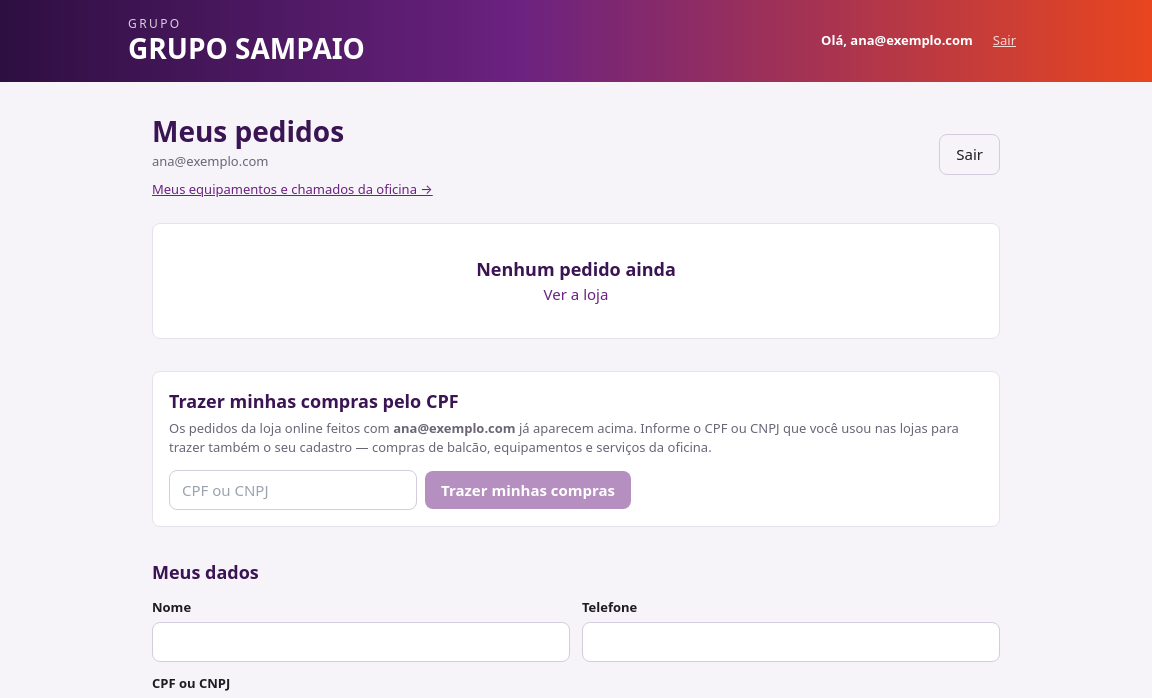
Scenario: na página da conta › o controle está lá, e trazer algo recarrega os pedidos
This screenshot has width=1152, height=698.
expect the text "Nenhum pedido ainda" is shown: met, box [476,257,676,281]
Type "11144477735" into the field named "CPF ou CNPJ das compras".
click(293, 490); type("11144477735")  # box [169,470,417,510]
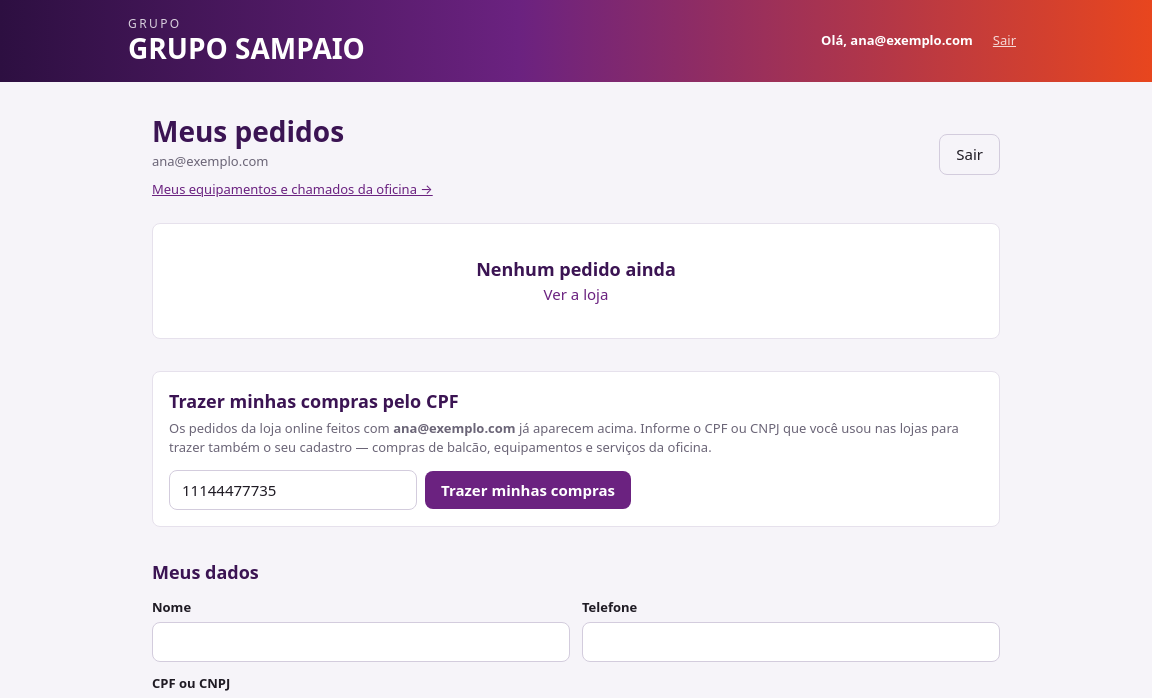
Click the button "Trazer minhas compras".
click(528, 490)  # box [425,470,631,509]
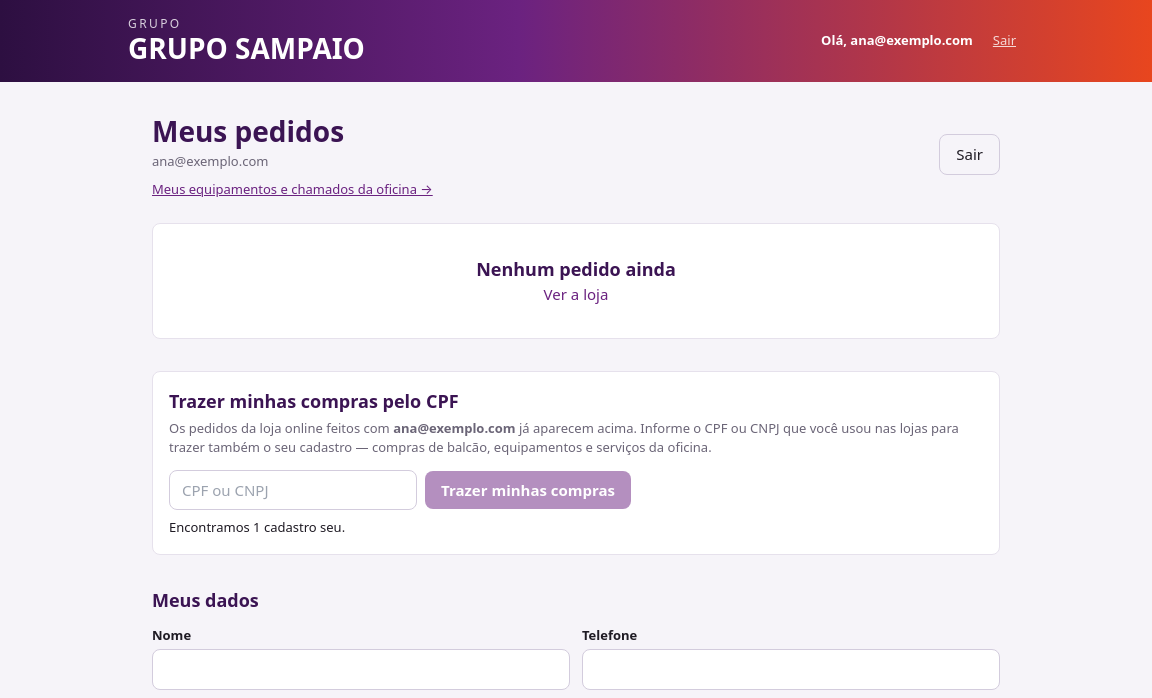
expect the text "Encontramos 1 cadastro seu." is shown: met, box [169,518,345,536]
